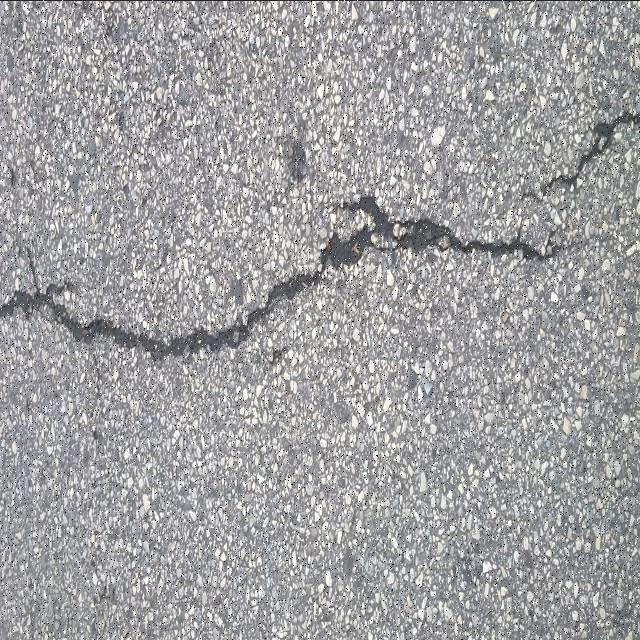Crack: (0, 108, 640, 362)
